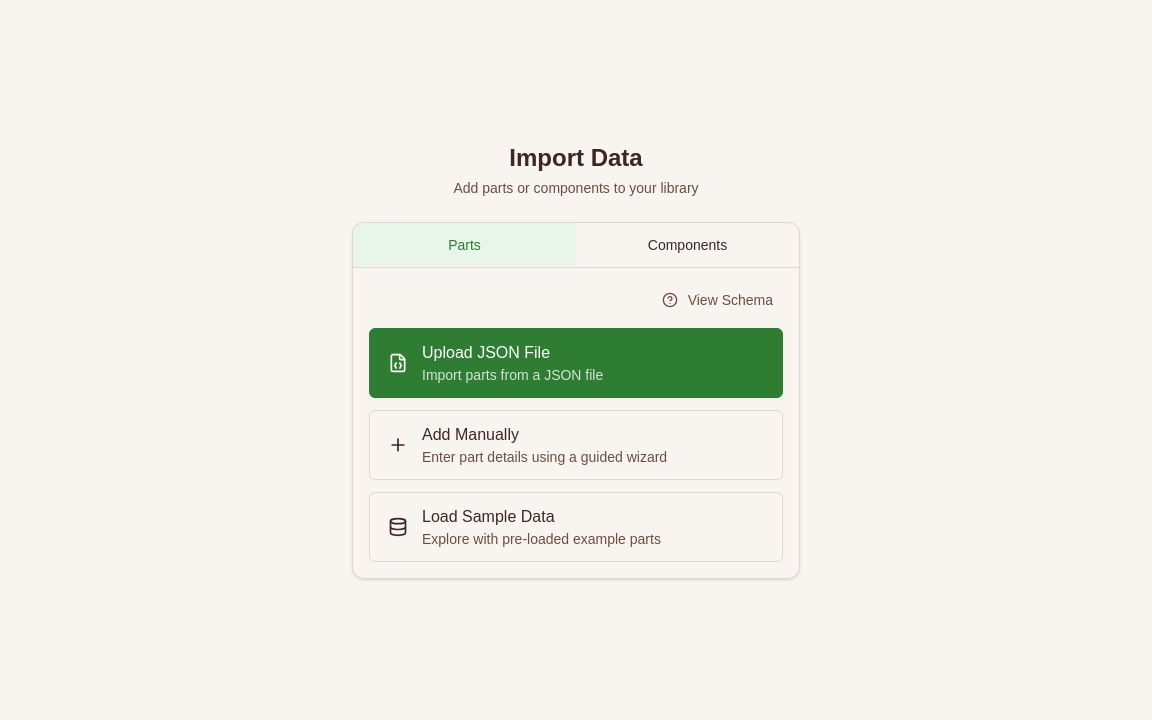
Data Import Screen (Story 2.2) › AC-2.2.3: Card Click Handlers › Add Manually card opens manual entry modal (Parts)
The width and height of the screenshot is (1152, 720).
Click the button "Add Manually" at {"x": 470, "y": 434}, box [369,410,783,480]
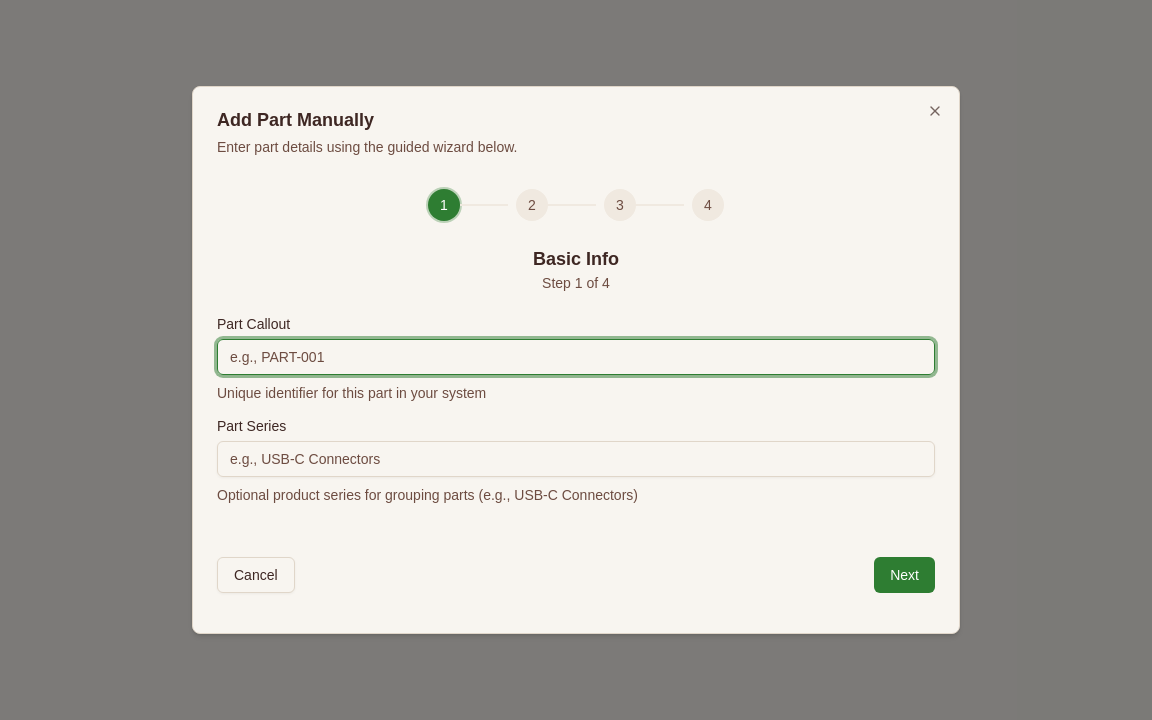
Check: the dialog is shown, box [192,86,960,634]
Check: the heading "Add Part Manually" is shown, box [217,110,374,130]
